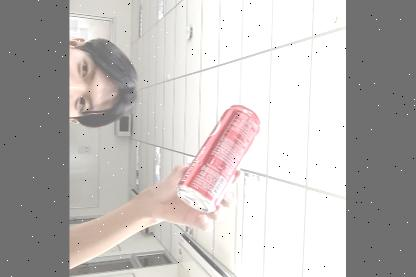Can: (174, 96, 267, 214)
